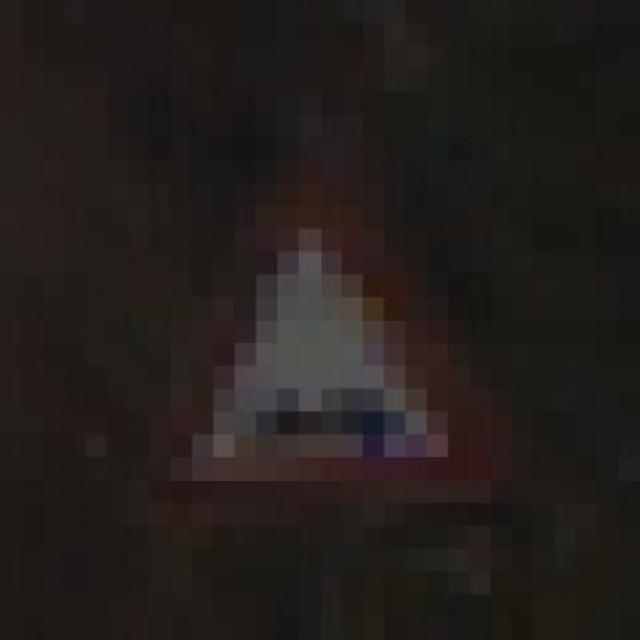Uneven Road: (128, 114, 512, 549)
